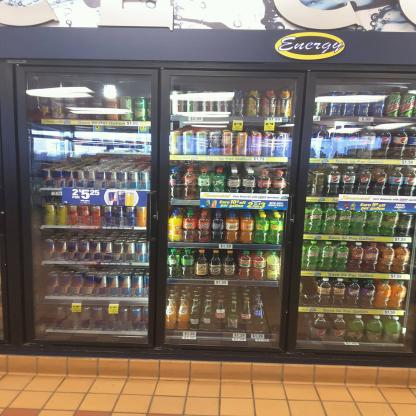Void: (263, 291, 278, 331)
